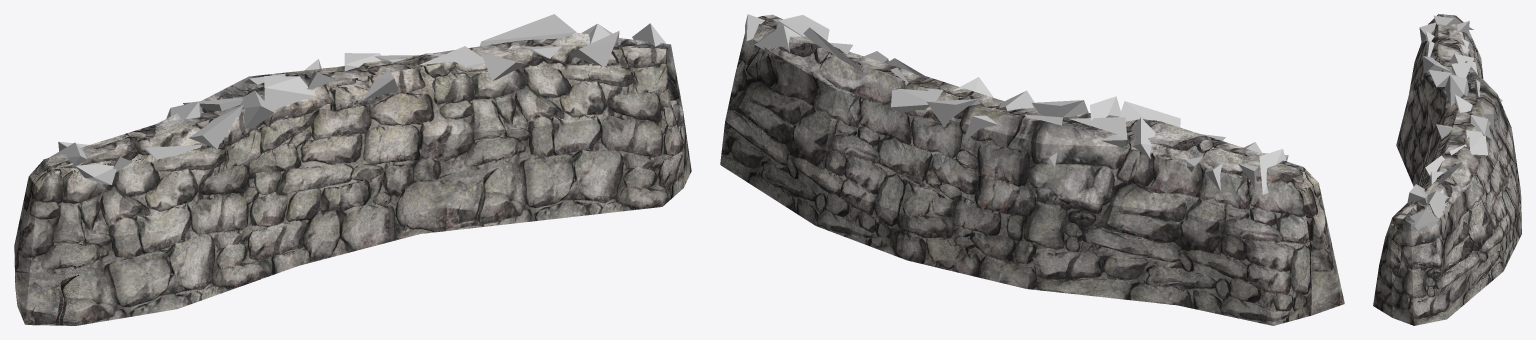
File: Wall_1b_LOD3.fbx
The picture shows the model from 3 angles, left to right: view 1: azimuth 30°, elevation 25°; view 2: azimuth 150°, elevation 25°; view 3: azimuth 270°, elevation 25°; orthographic projection. The views are drawn at different scales.
Parts seen in each view (by area): view 1: Wall, Rock; view 2: Wall, Rock; view 3: Wall, Rock.
Boxes of the visible parts, x1,y1,x2,y2 form: Wall: (14,32,691,325); Rock: (49,14,665,184); Wall: (720,14,1344,325); Rock: (745,14,1288,194); Wall: (1373,14,1521,325); Rock: (1391,15,1502,230).
Bounding box in the file's own units: 858 × 240 × 209.
